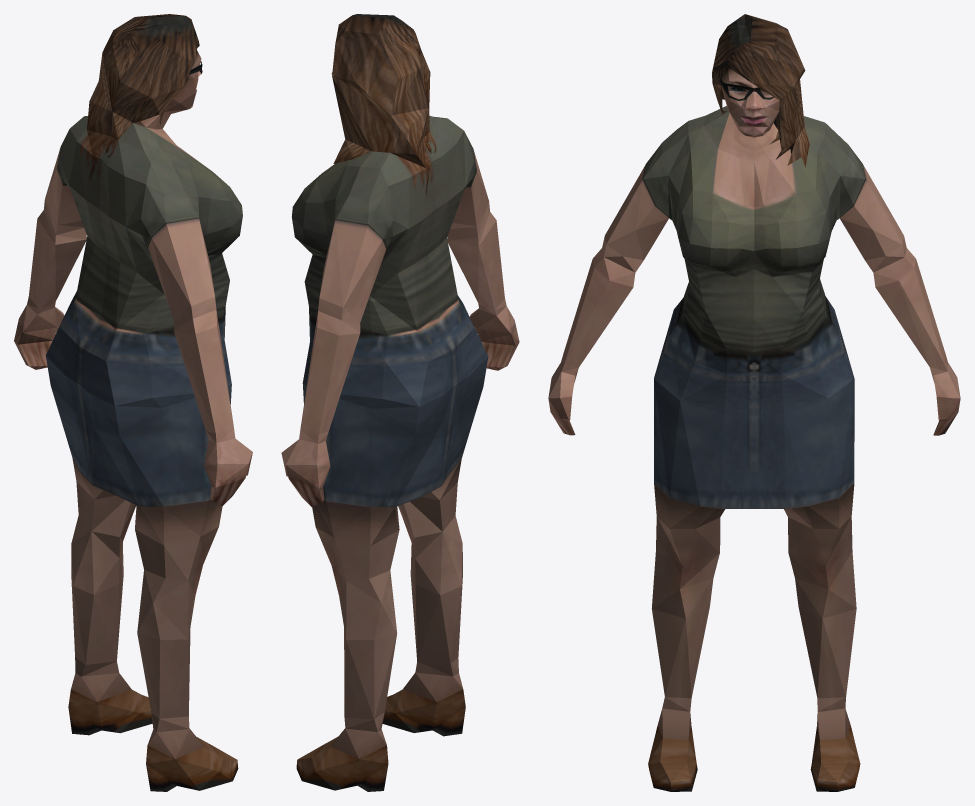
File: dwfylc1.obj
The picture shows the model from 3 angles, left to right: view 1: azimuth 30°, elevation 25°; view 2: azimuth 150°, elevation 25°; view 3: azimuth 270°, elevation 25°; orthographic projection. The views are drawn at different scales.
Parts seen in each view (by area): view 1: _Pelvis; view 2: _Pelvis; view 3: _Pelvis.
Part boxes in pixels (x1=…): _Pelvis: x1=14, y1=14, x2=252, y2=791; _Pelvis: x1=281, y1=14, x2=519, y2=791; _Pelvis: x1=548, y1=14, x2=960, y2=791.
Size of the model in its own units: 0.3843 by 1.88 by 0.9309.
1 material, 1 textured.
